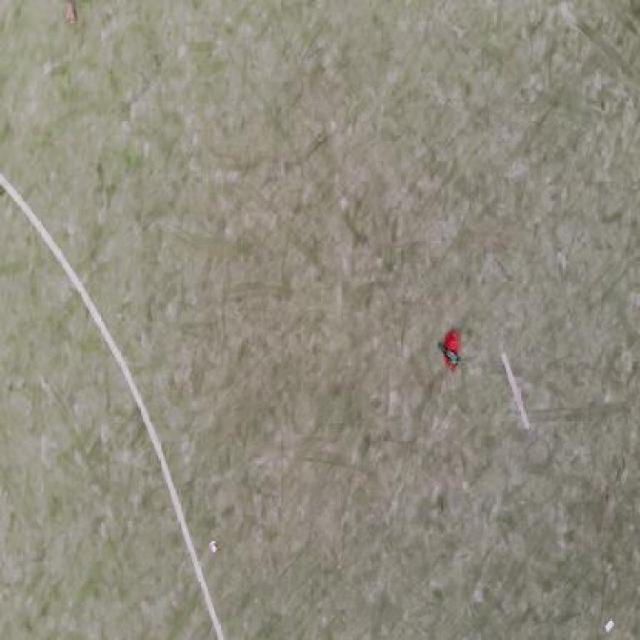Garbage: (437, 329, 459, 371), (67, 1, 76, 25), (604, 617, 613, 631), (210, 540, 217, 552)
